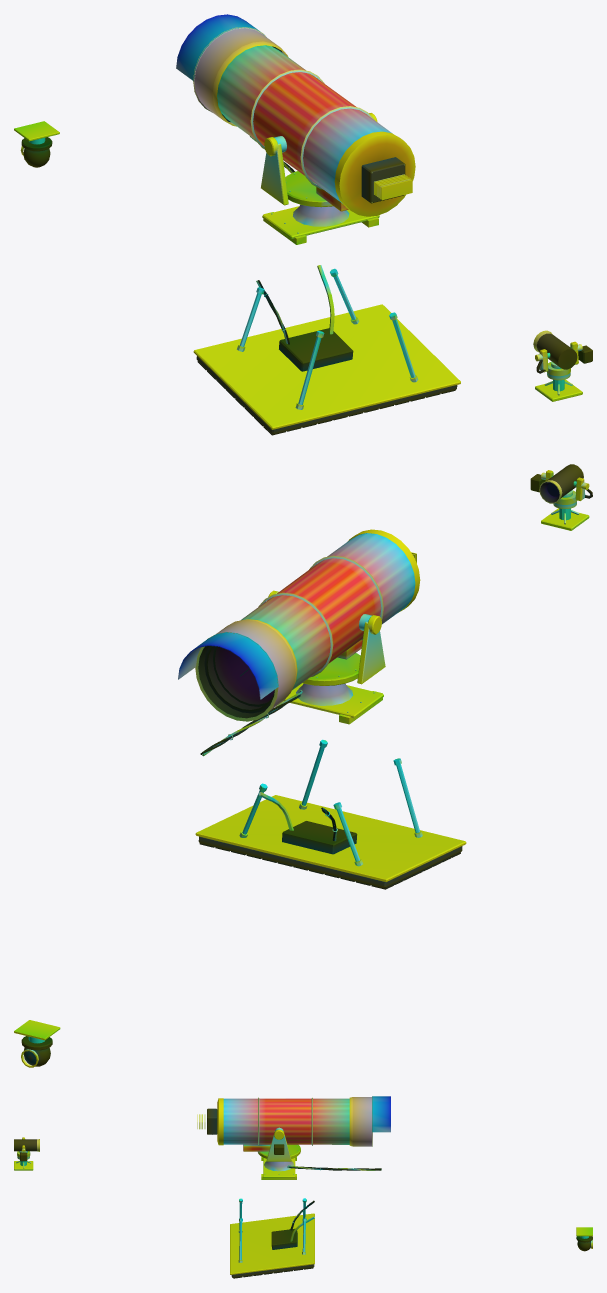
The model's file is kit_recon.glb.
3 views of the same model, one above another, from view 1: azimuth 30°, elevation 25°; view 2: azimuth 150°, elevation 25°; view 3: azimuth 270°, elevation 25° (orthographic). The views are drawn at different scales.
Parts seen in each view (by area): view 1: KIT_RECON_BODY, TEL_EL, TEL_AZ, LCOM_EL, LCOM_AZ; view 2: TEL_EL, KIT_RECON_BODY, TEL_AZ, LCOM_EL, LCOM_AZ; view 3: TEL_EL, KIT_RECON_BODY, TEL_AZ, LCOM_EL.
Boxes of the visible parts, x1=… form: KIT_RECON_BODY: x1=14, y1=121, x2=582, y2=435; TEL_EL: x1=176, y1=14, x2=415, y2=216; TEL_AZ: x1=261, y1=113, x2=377, y2=207; LCOM_EL: x1=533, y1=330, x2=577, y2=369; LCOM_AZ: x1=535, y1=341, x2=592, y2=376; TEL_EL: x1=178, y1=529, x2=420, y2=721; KIT_RECON_BODY: x1=14, y1=502, x2=589, y2=1067; TEL_AZ: x1=267, y1=590, x2=385, y2=685; LCOM_EL: x1=539, y1=464, x2=583, y2=503; LCOM_AZ: x1=530, y1=470, x2=592, y2=504; TEL_EL: x1=197, y1=1096, x2=390, y2=1151; KIT_RECON_BODY: x1=14, y1=1156, x2=592, y2=1278; TEL_AZ: x1=258, y1=1129, x2=300, y2=1161; LCOM_EL: x1=14, y1=1139, x2=39, y2=1151.
Size of the model in its own units: 1.84 by 2.69 by 9.06.
